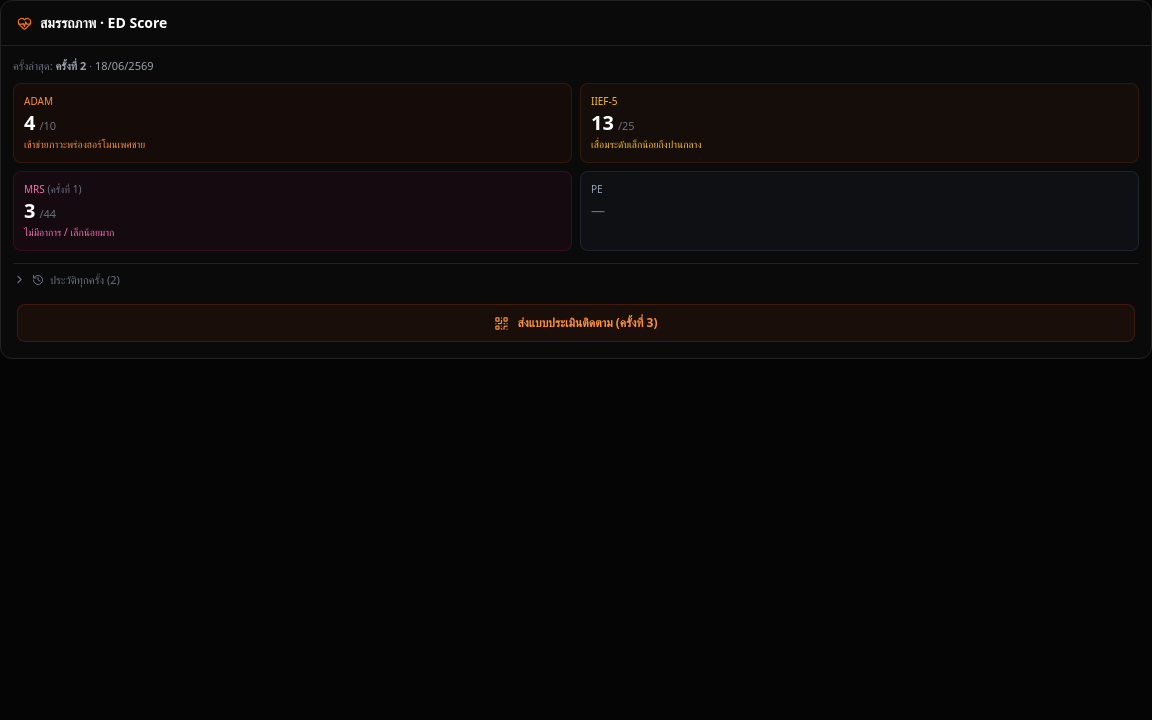
Test case: ED chip → 2-panel compare modal › CM3 type tab switches BOTH panels; primary lacking type → empty, compare auto-finds it
Click the button with test id "ed-chip-adam" at (85, 144), box top-left (13, 82), bottom-right (572, 162)
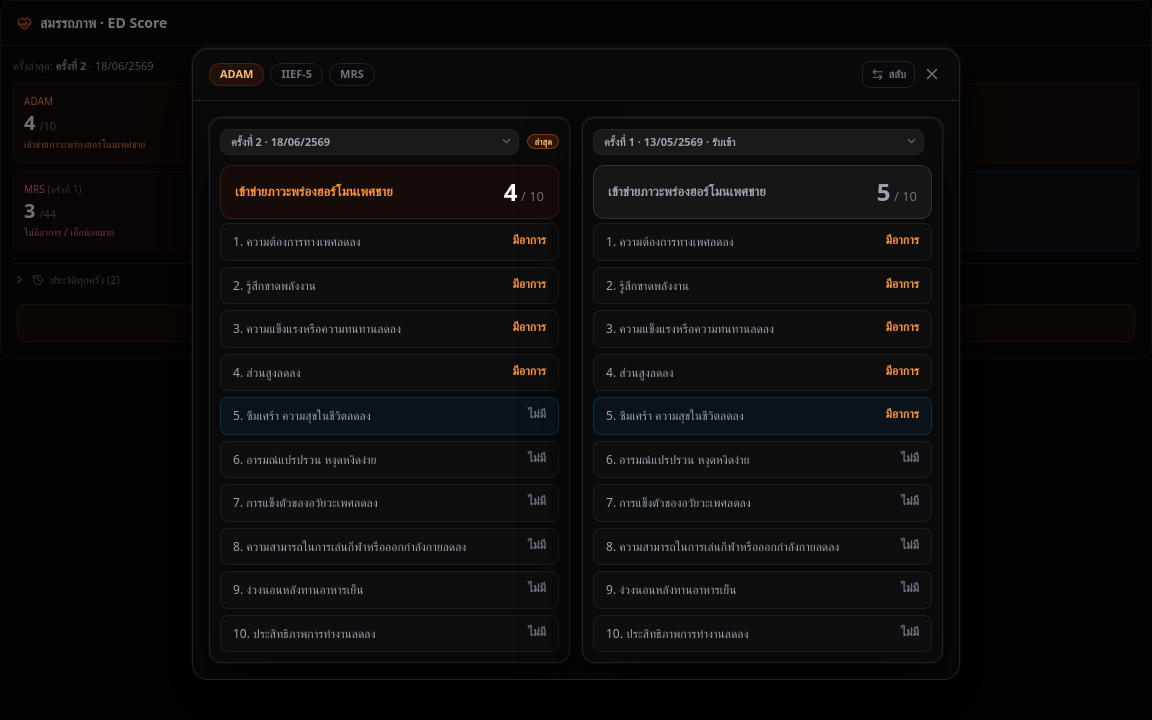
Click the tab with test id "ed-tab-mrs" at (352, 74), box top-left (329, 63), bottom-right (375, 86)
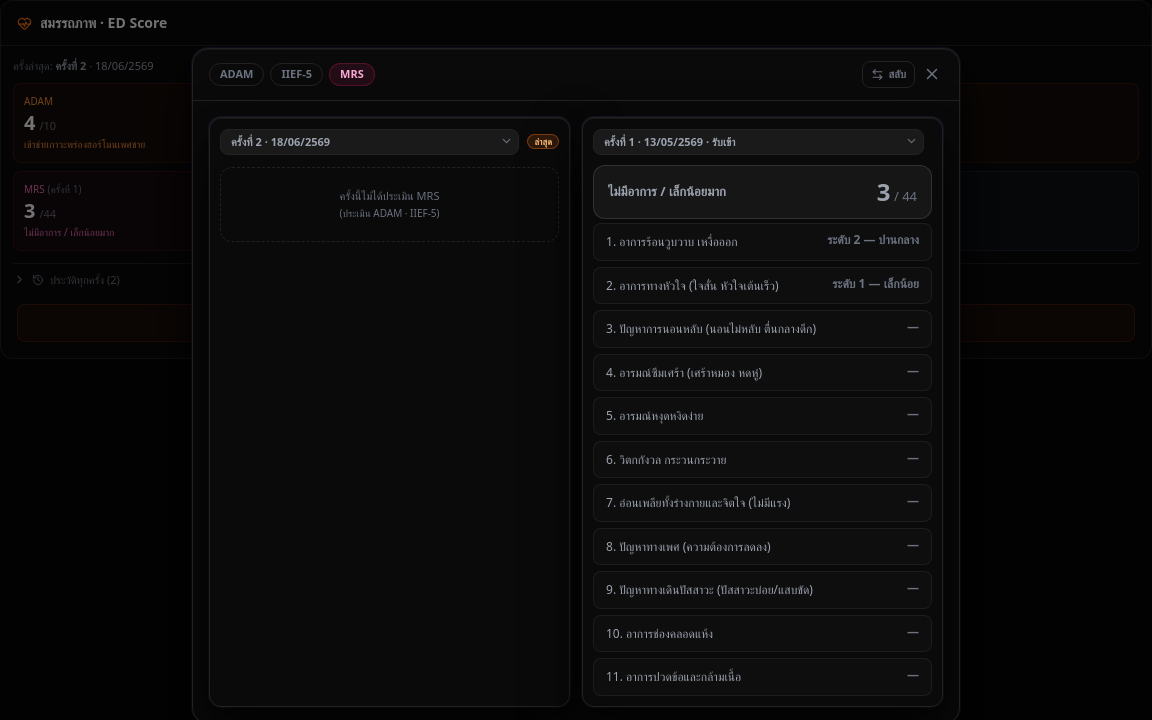
Now the element with test id "ed-panel-compare-row-1" is shown, box top-left (593, 223), bottom-right (932, 260)
Now the element with test id "ed-panel-primary-empty" shows "ไม่ได้ประเมิน MRS", box top-left (220, 167), bottom-right (559, 242)
